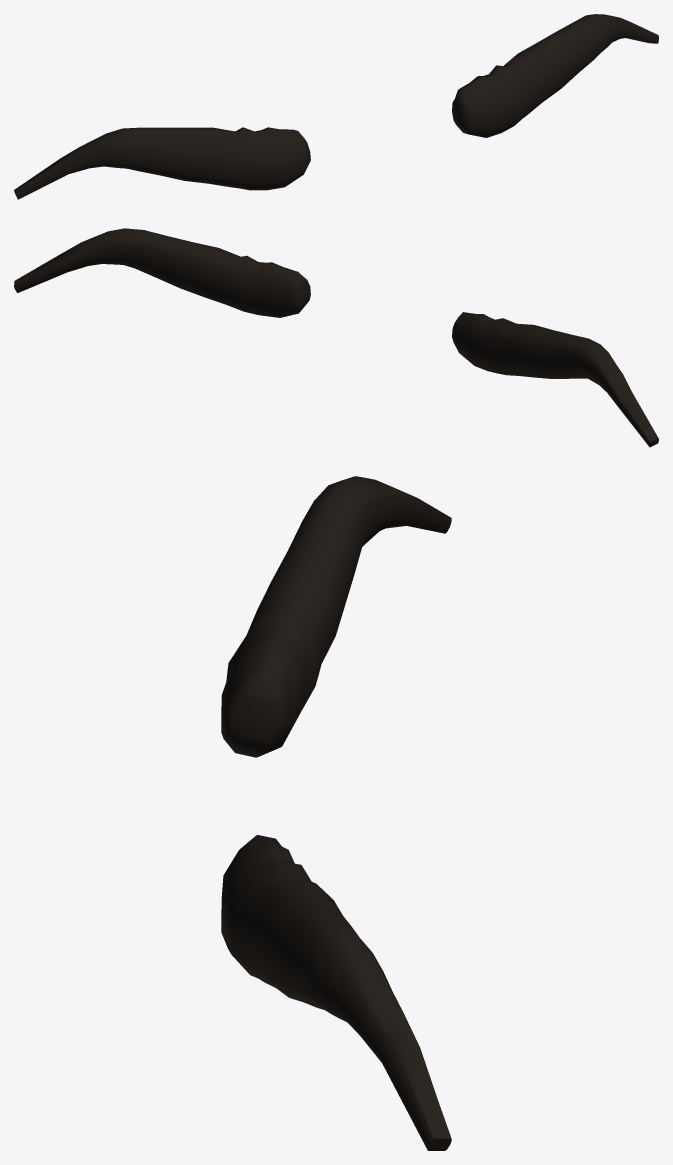
Rendered from Eyebrows_09_01.fbx.
3 renders of one model, top to bottom at view 1: azimuth 30°, elevation 25°; view 2: azimuth 150°, elevation 25°; view 3: azimuth 270°, elevation 25°, orthographic. The views are drawn at different scales.
Parts seen in each view (by area): view 1: Eyebrows_09_01; view 2: Eyebrows_09_01; view 3: Eyebrows_09_01.
Part boxes in pixels (x1,y1,x2,y2): Eyebrows_09_01: [14, 14, 658, 199]; Eyebrows_09_01: [14, 228, 658, 447]; Eyebrows_09_01: [221, 476, 451, 1150].
Bounding box in the file's own units: 19.2 × 2.07 × 2.98.
